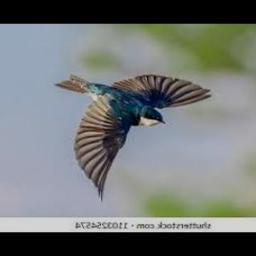Swallow: (54, 73, 212, 202)
